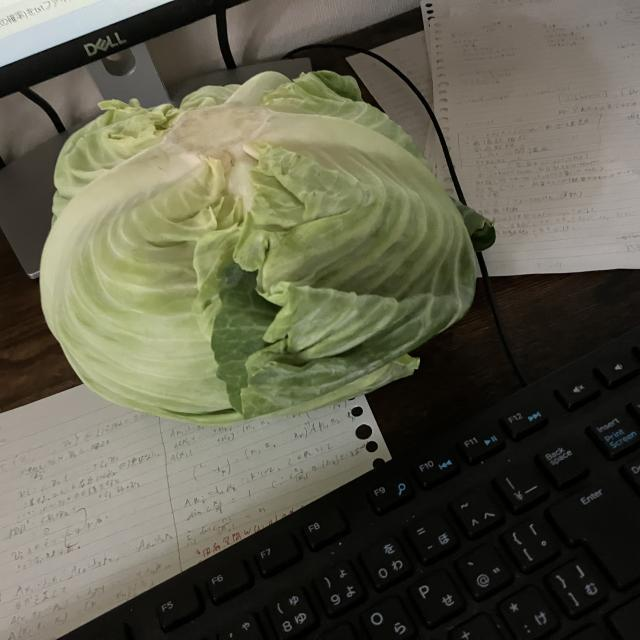cabbage: (36, 68, 484, 430)
